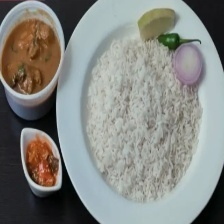rice: (80, 34, 203, 205)
